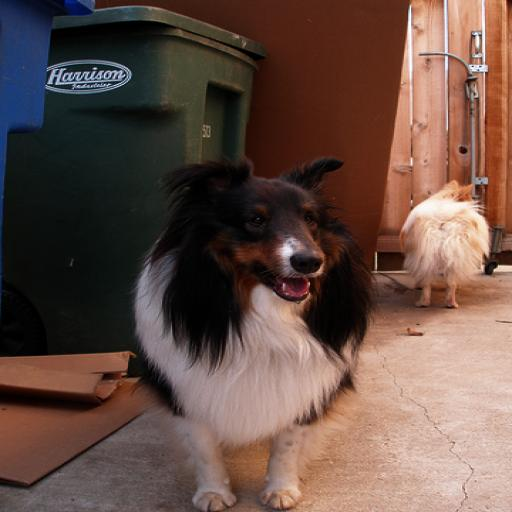dog_face: (168, 159, 341, 307)
